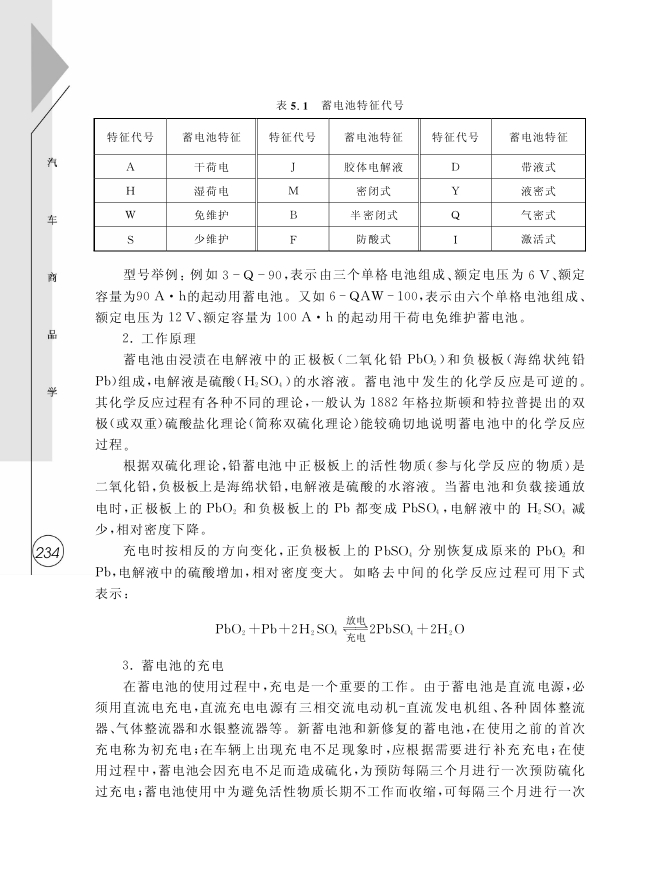table: (93, 117, 586, 251)
